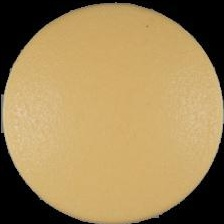63629-2733: (0, 0, 224, 224)
